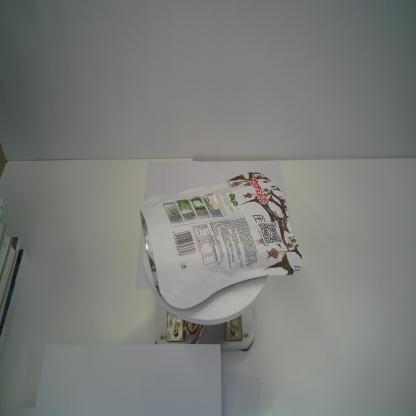Dried Fruit: (138, 167, 304, 310)
